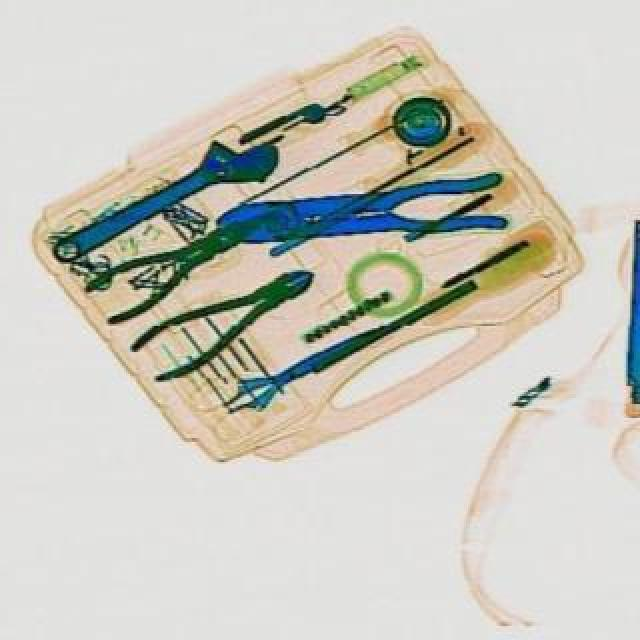knife: (208, 312, 388, 424)
scissors: (36, 116, 288, 280)
wrench: (78, 186, 286, 328), (124, 248, 328, 388), (212, 170, 504, 254)
